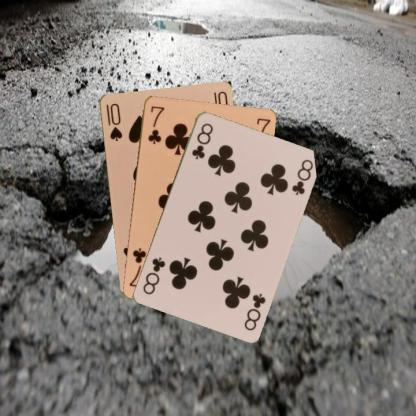10s: (102, 100, 124, 142)
7c: (145, 103, 166, 145)
8c: (188, 120, 214, 161), (242, 290, 266, 332)
